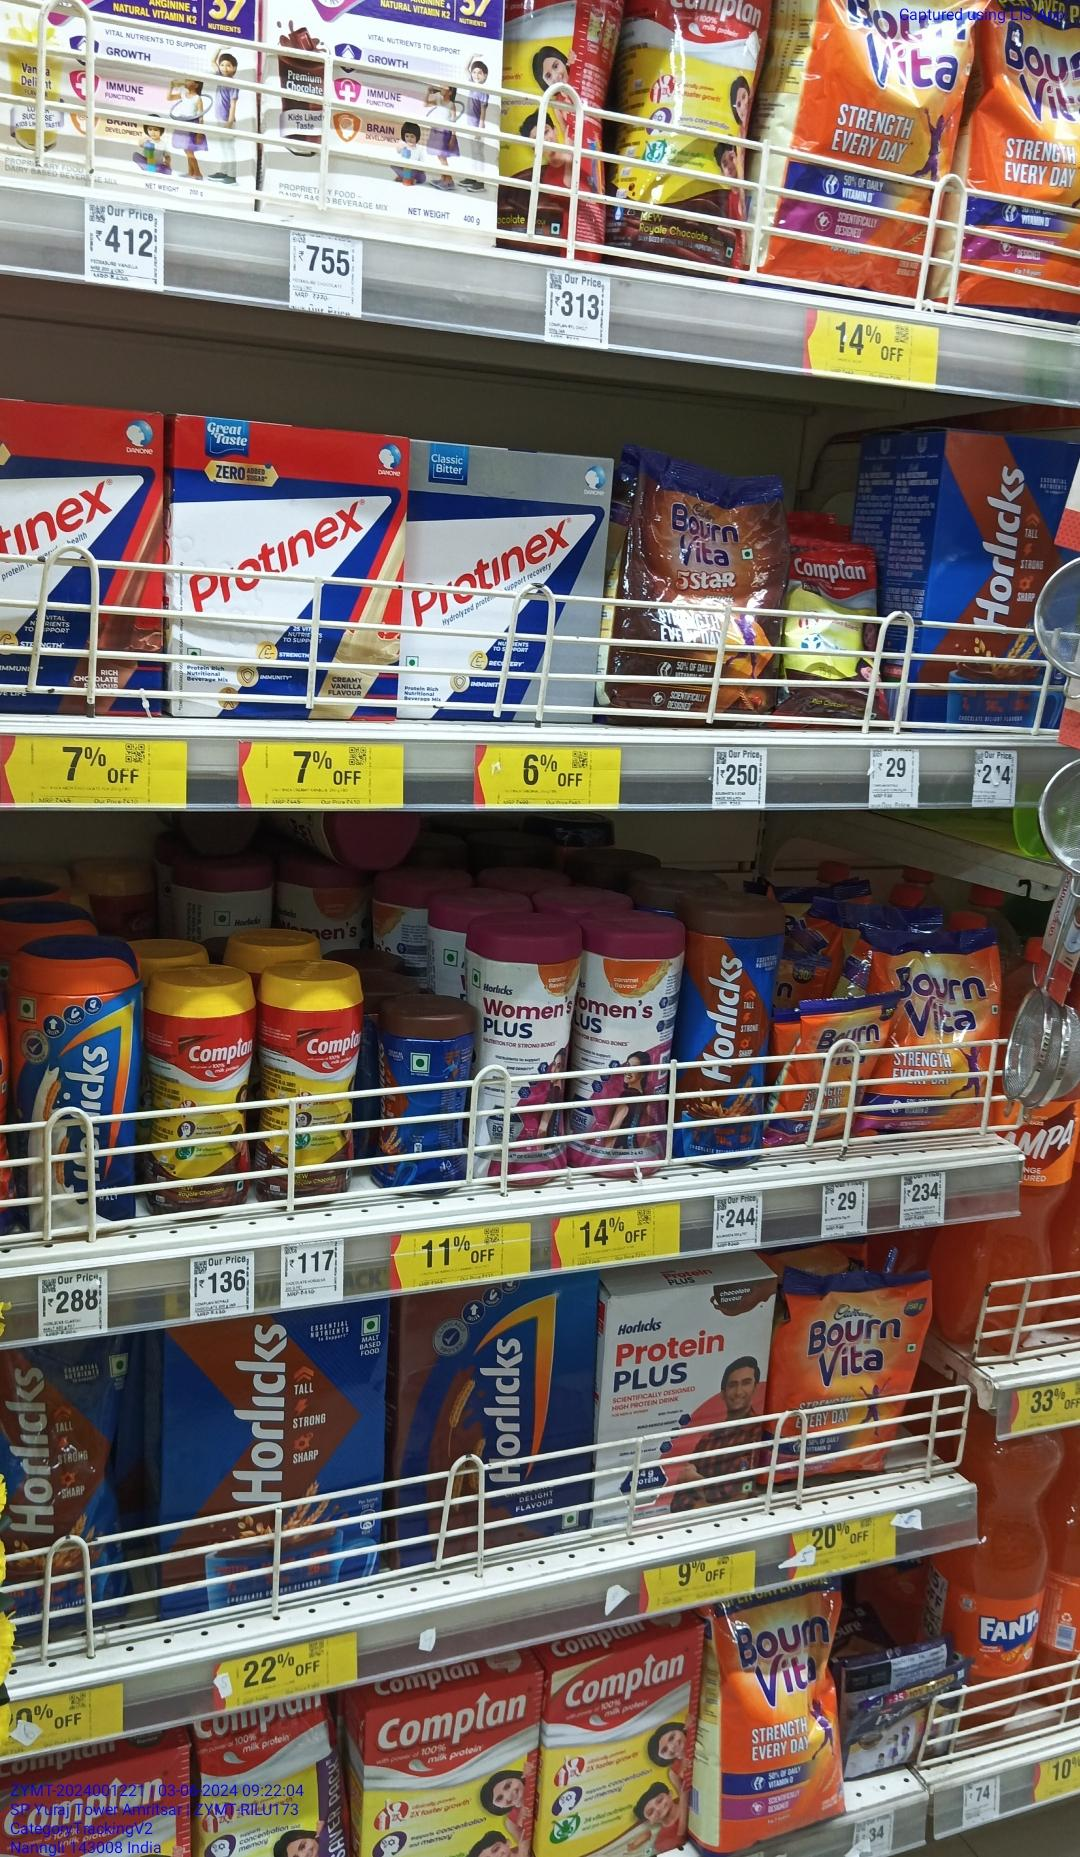BOURN_VITA_1_KG_POUCH: (716, 1601, 842, 1842)
BOURN_VITA_500_G_POUCH: (881, 925, 996, 1133)
BOURN_VITA_FIVE_STAR_MAGIC_500_G_POUCH: (618, 450, 768, 725)
COMPLAN_CHOCOLATE_500_GMS_JAR: (622, 0, 747, 254), (149, 982, 255, 1207), (260, 965, 360, 1195)
HORLICK_CHOCOLATE_500_G_JAR: (685, 910, 775, 1159)
HORLICK_CLASSIC_MALT_500_G_JAR: (14, 952, 136, 1232)
